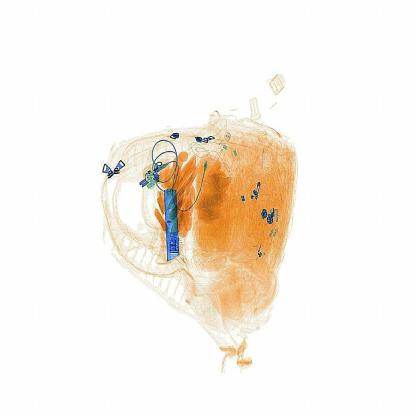pliers: (155, 180, 190, 270)
